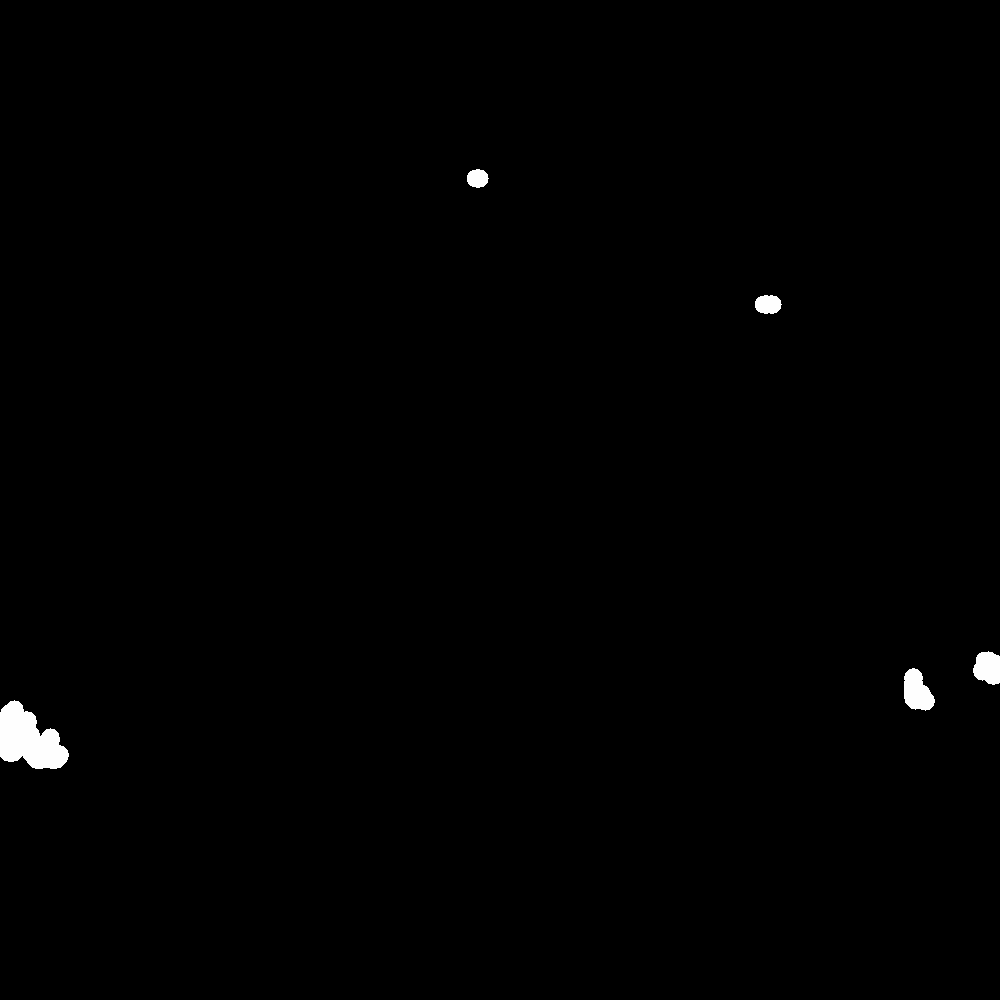illegal: (899, 670, 937, 710), (969, 655, 997, 681)
